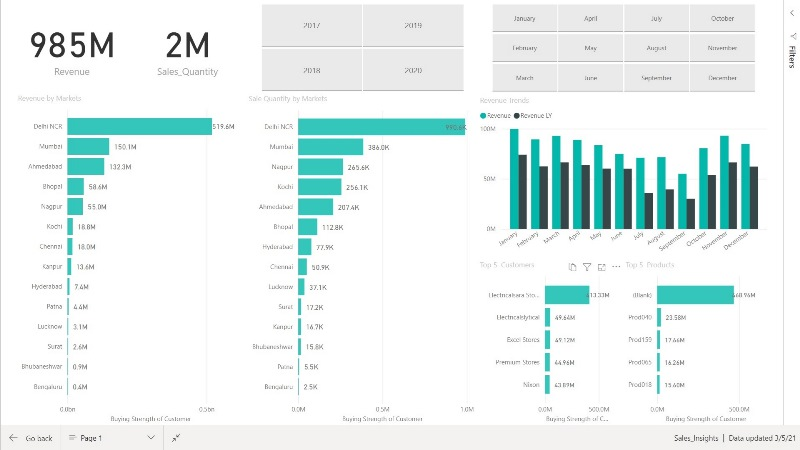

What the dashboard file says about the page in this screenshot:
{"tool":"powerbi","page":{"name":"Page 1","canvas":[1280,720],"ordinal":0},"visuals":[{"type":"card","fields":{"Values":["BaseMeasures.Revenue"]},"box":[0,0,196.2,157.2],"z":0},{"type":"card","fields":{"Values":["BaseMeasures.Sales_Quantity"]},"box":[196.2,0,196.2,157.2],"z":1000},{"type":"barChart","title":"Revenue by Markets","fields":{"Y":["BaseMeasures.Revenue"],"Category":["sales markets.markets_name"]},"box":[1.4,157.2,391,563.5],"z":2000},{"type":"barChart","title":"Sale Quantity by Markets","fields":{"Category":["sales markets.markets_name"],"Y":["BaseMeasures.Sales_Quantity"]},"box":[392.6,157.5,391.4,562.5],"z":3000},{"type":"slicer","fields":{"Values":["sales date.year"]},"box":[393.2,0,391.8,160.9],"z":4000},{"type":"slicer","fields":{"Values":["sales date.cy_date.Variation.Date Hierarchy.Month"]},"box":[784,0,494.8,161.2],"z":5000},{"type":"barChart","title":"Top 5  Customers","fields":{"Category":["sales customers.custmer_name"],"Y":["BaseMeasures.Revenue"]},"box":[784,439.3,247.3,280.7],"z":6000},{"type":"barChart","title":"Top 5  Products","fields":{"Y":["BaseMeasures.Revenue"],"Category":["sales products.product_code"]},"box":[1031.3,439.3,247.3,280.7],"z":7000},{"type":"lineClusteredColumnComboChart","title":"Revenue Trends","fields":{"Y":["BaseMeasures.Revenue","BaseMeasures.Revenue LY"],"Category":["sales date.date.Variation.Date Hierarchy.Month"]},"box":[784,161,495,278],"z":8000}]}

Visuals, with their boxes on the page's 1280x720 design canvas (x1, y1, x2, y2). These are canvas units, not pixel positions in the 800x450 screenshot, which may show the page scaled, cropped or inside an application window:
card - BaseMeasures.Revenue: crop(0, 0, 196, 157)
card - BaseMeasures.Sales_Quantity: crop(196, 0, 392, 157)
"Revenue by Markets" barChart: crop(1, 157, 392, 721)
"Sale Quantity by Markets" barChart: crop(393, 158, 784, 720)
slicer - sales date.year: crop(393, 0, 785, 161)
slicer - sales date.cy_date.Variation.Date Hierarchy.Month: crop(784, 0, 1279, 161)
"Top 5  Customers" barChart: crop(784, 439, 1031, 720)
"Top 5  Products" barChart: crop(1031, 439, 1279, 720)
"Revenue Trends" lineClusteredColumnComboChart: crop(784, 161, 1279, 439)
